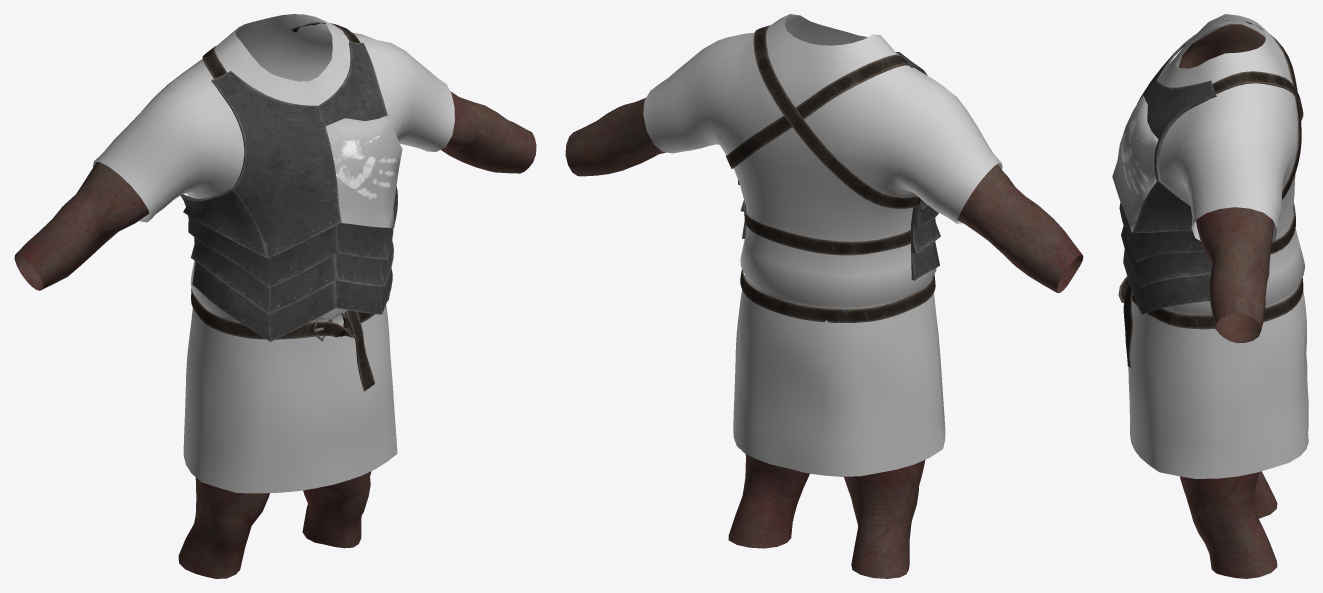
File: sk_uruk_hai_plate_med_b1.fbx
The picture shows the model from 3 angles, left to right: view 1: azimuth 30°, elevation 25°; view 2: azimuth 150°, elevation 25°; view 3: azimuth 270°, elevation 25°; orthographic projection. The views are drawn at different scales.
Visible parts, largest first — view 1: sk_uruk_hai_plate_med_b1.3, sk_uruk_hai_plate_med_b1.1, sk_uruk_hai_plate_med_b1.body.1, sk_uruk_hai_plate_med_b1.body.0, sk_uruk_hai_plate_med_b1.2, sk_uruk_hai_plate_med_b1.0; view 2: sk_uruk_hai_plate_med_b1.3, sk_uruk_hai_plate_med_b1.body.1, sk_uruk_hai_plate_med_b1.0, sk_uruk_hai_plate_med_b1.body.0, sk_uruk_hai_plate_med_b1.1; view 3: sk_uruk_hai_plate_med_b1.3, sk_uruk_hai_plate_med_b1.1, sk_uruk_hai_plate_med_b1.body.1, sk_uruk_hai_plate_med_b1.body.0, sk_uruk_hai_plate_med_b1.0, sk_uruk_hai_plate_med_b1.2.
Boxes of the visible parts, x1=… form: sk_uruk_hai_plate_med_b1.3: x1=93, y1=14, x2=454, y2=493; sk_uruk_hai_plate_med_b1.1: x1=180, y1=42, x2=397, y2=341; sk_uruk_hai_plate_med_b1.body.1: x1=14, y1=91, x2=536, y2=290; sk_uruk_hai_plate_med_b1.body.0: x1=178, y1=471, x2=371, y2=578; sk_uruk_hai_plate_med_b1.2: x1=325, y1=114, x2=402, y2=227; sk_uruk_hai_plate_med_b1.0: x1=184, y1=22, x2=389, y2=391; sk_uruk_hai_plate_med_b1.3: x1=643, y1=14, x2=1002, y2=476; sk_uruk_hai_plate_med_b1.body.1: x1=565, y1=97, x2=1083, y2=292; sk_uruk_hai_plate_med_b1.0: x1=726, y1=25, x2=935, y2=322; sk_uruk_hai_plate_med_b1.body.0: x1=728, y1=454, x2=925, y2=578; sk_uruk_hai_plate_med_b1.1: x1=738, y1=52, x2=940, y2=280; sk_uruk_hai_plate_med_b1.3: x1=1128, y1=14, x2=1308, y2=478; sk_uruk_hai_plate_med_b1.1: x1=1119, y1=34, x2=1216, y2=314; sk_uruk_hai_plate_med_b1.body.1: x1=1179, y1=24, x2=1274, y2=343; sk_uruk_hai_plate_med_b1.body.0: x1=1180, y1=471, x2=1277, y2=578; sk_uruk_hai_plate_med_b1.0: x1=1118, y1=20, x2=1303, y2=367; sk_uruk_hai_plate_med_b1.2: x1=1112, y1=95, x2=1158, y2=232.
Size of the model in its own units: 1.2 by 0.4185 by 1.19.
